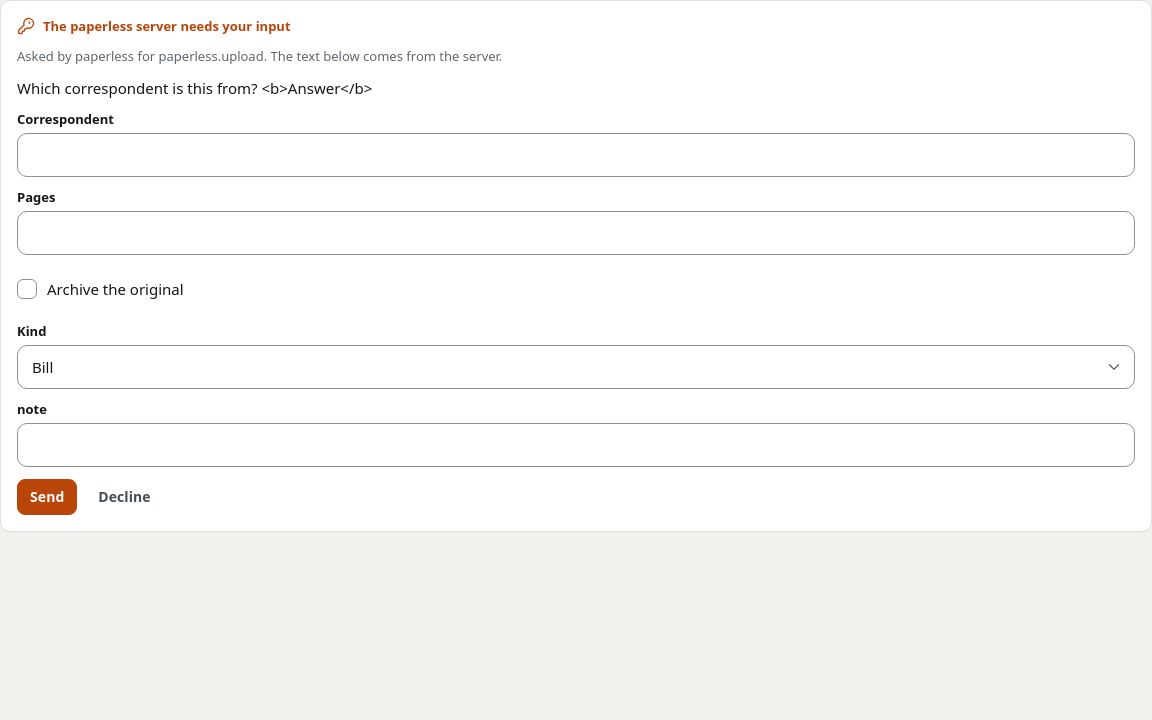
Test: InputRequestForm › declines
Step 1. Click the button with test id "decline" → (124, 497), box [85,479,164,515]
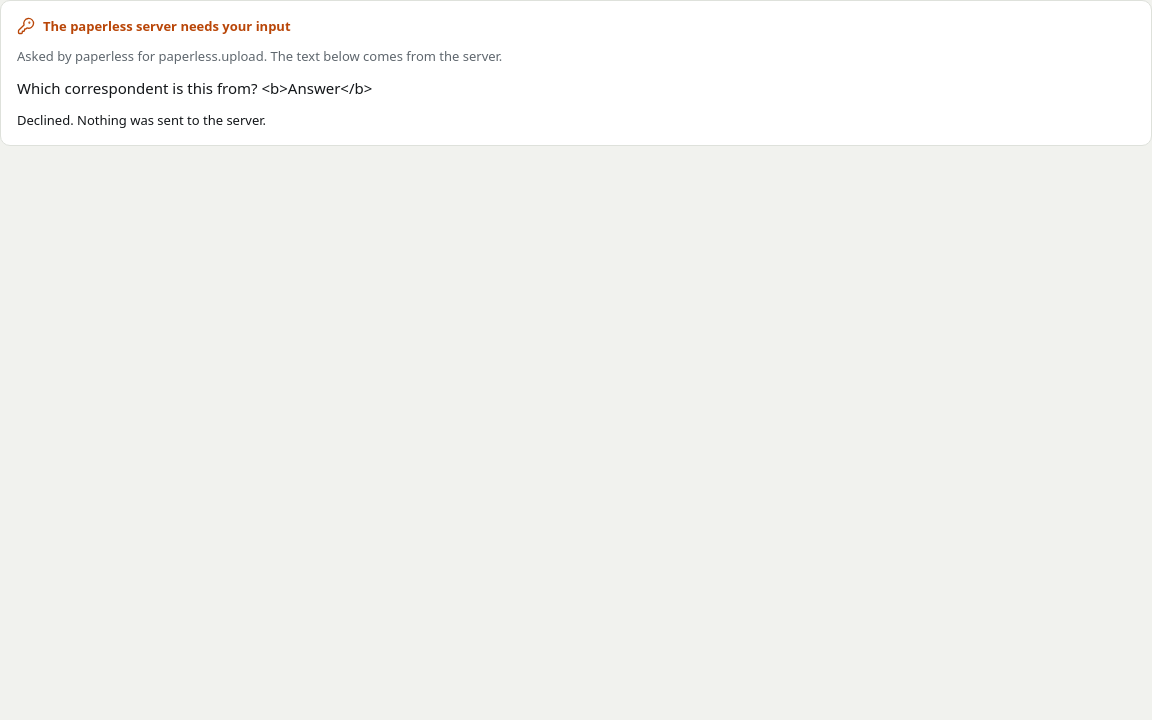
Expected: the message with test id "outcome" shows "Nothing was sent", [17,111,266,129]
